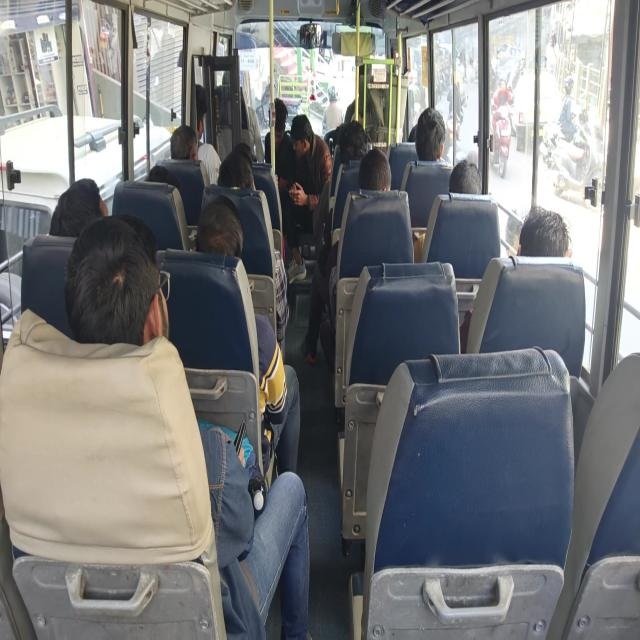person: (75, 234, 171, 406), (512, 189, 590, 295), (453, 152, 507, 214), (227, 150, 272, 218), (201, 203, 241, 279), (53, 174, 95, 232), (414, 102, 444, 180), (226, 78, 260, 130), (359, 154, 391, 199), (336, 129, 376, 163), (187, 77, 209, 126), (266, 97, 291, 140), (290, 115, 315, 156), (146, 162, 172, 201), (167, 118, 194, 154), (231, 138, 262, 158), (402, 120, 419, 144)
